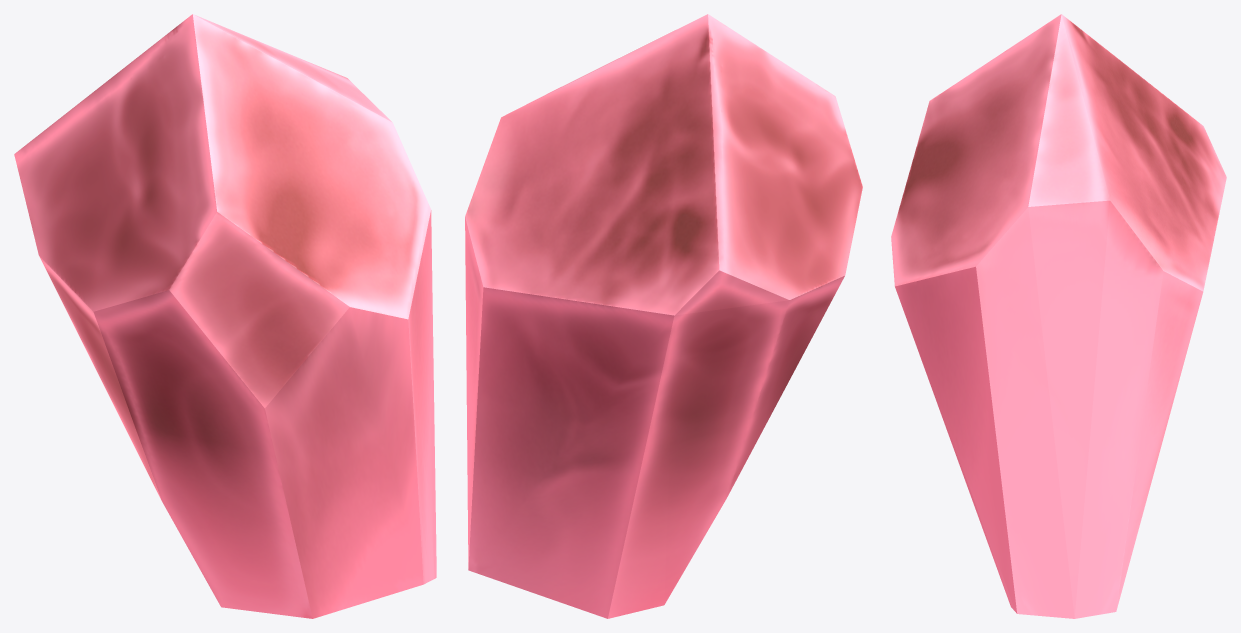
The model's file is crystal_red_single2.fbx.
3 views of the same model, side by side, from view 1: azimuth 30°, elevation 25°; view 2: azimuth 150°, elevation 25°; view 3: azimuth 270°, elevation 25° (orthographic). The views are drawn at different scales.
Visible parts, largest first — view 1: crystal_red_single_002; view 2: crystal_red_single_002; view 3: crystal_red_single_002.
Part boxes in pixels (box(x1,y1,x2,y2)): crystal_red_single_002: box(14, 14, 436, 618); crystal_red_single_002: box(465, 14, 862, 618); crystal_red_single_002: box(891, 14, 1226, 618).
Bounding box in the file's own units: 0.7063 × 1.17 × 0.6889.
